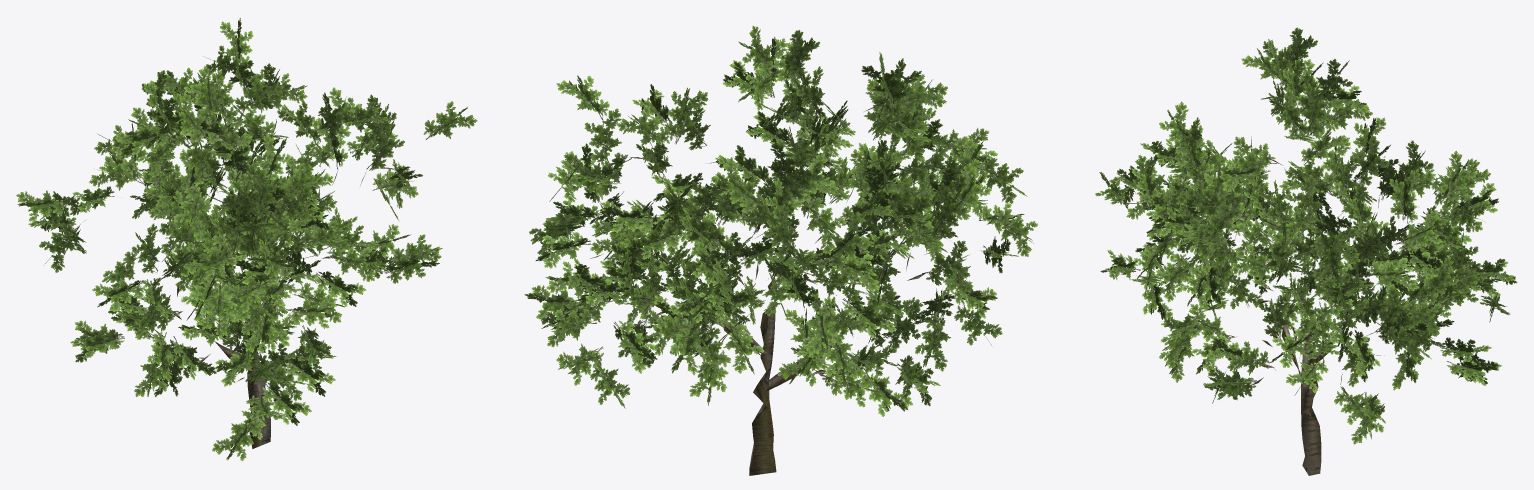
File: tree_05_large.glb
The picture shows the model from 3 angles, left to right: view 1: azimuth 30°, elevation 25°; view 2: azimuth 150°, elevation 25°; view 3: azimuth 270°, elevation 25°; orthographic projection. The views are drawn at different scales.
Visible parts, largest first — view 1: tree_05; view 2: tree_05; view 3: tree_05.
Part boxes in pixels (x1,y1,x2,y2): tree_05: (16,18,477,460); tree_05: (524,25,1037,475); tree_05: (1095,27,1517,475).
Bounding box in the file's own units: 22.17 × 21.76 × 20.75.
Materials: 2 (2 with a texture image).
